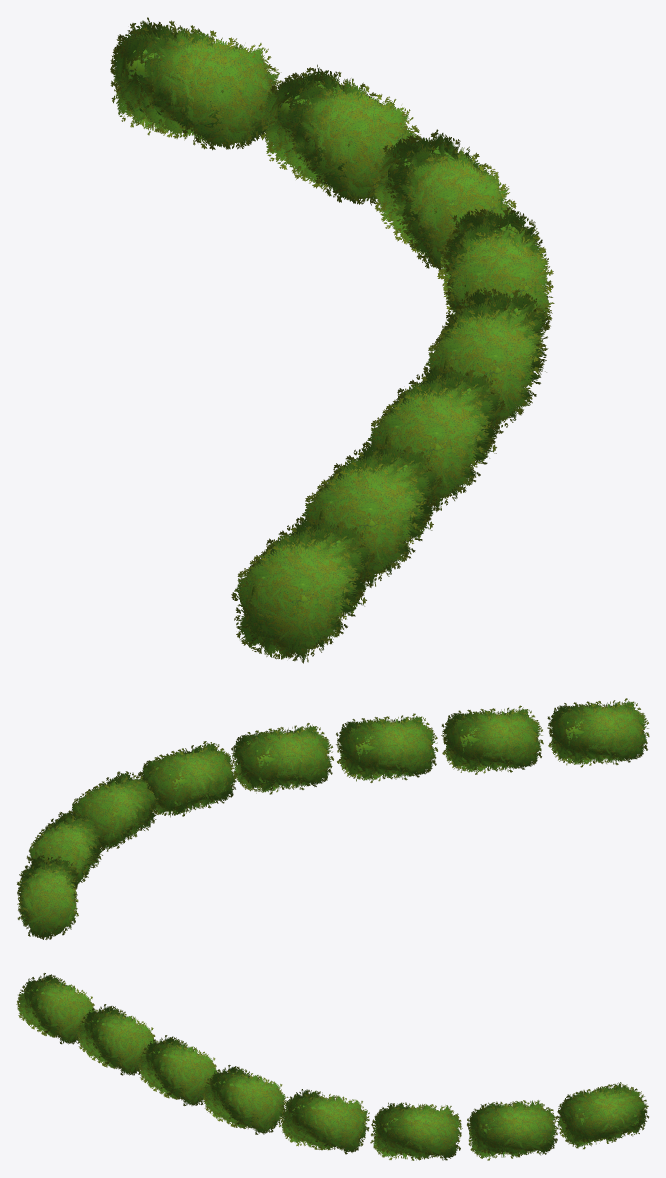
File: SM_Bush06_Splines_27.fbx
3 renders of one model, top to bottom at view 1: azimuth 30°, elevation 25°; view 2: azimuth 150°, elevation 25°; view 3: azimuth 270°, elevation 25°, orthographic. The views are drawn at different scales.
Visible parts, largest first — view 1: SM_Bush06_Splines_27_LOD0; view 2: SM_Bush06_Splines_27_LOD0; view 3: SM_Bush06_Splines_27_LOD0.
Boxes of the visible parts, x1=… form: SM_Bush06_Splines_27_LOD0: x1=110, y1=17, x2=554, y2=663; SM_Bush06_Splines_27_LOD0: x1=17, y1=698, x2=649, y2=939; SM_Bush06_Splines_27_LOD0: x1=16, y1=973, x2=648, y2=1160.
Size of the model in its own units: 1014 by 1766 by 166.
